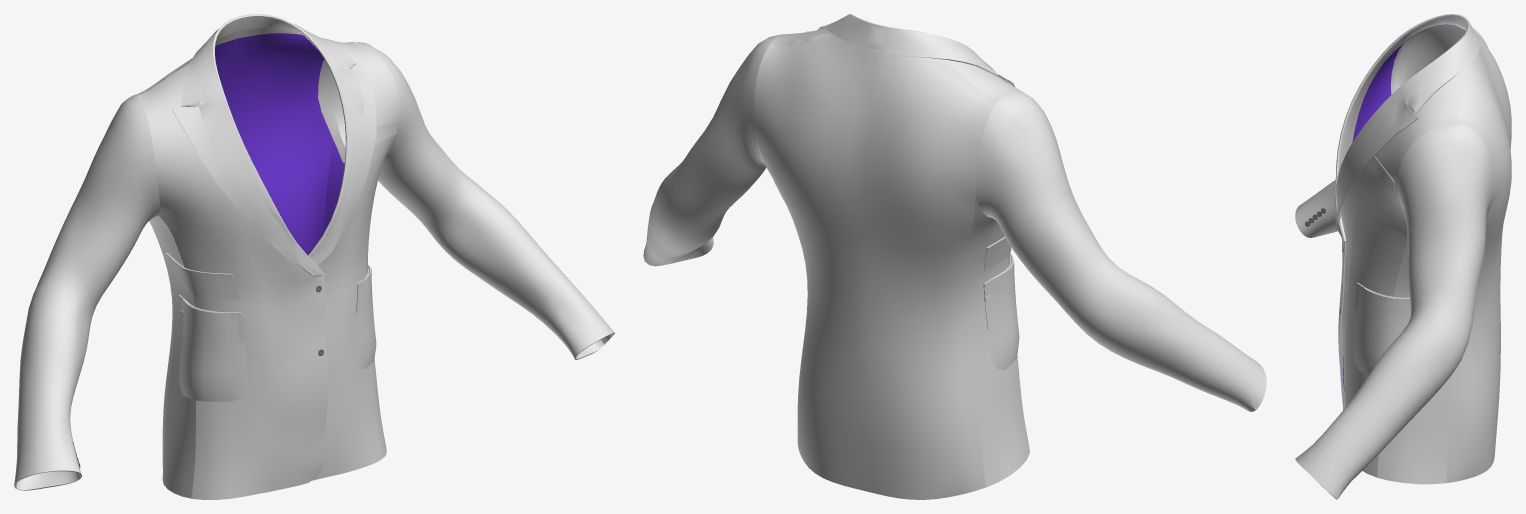
Rendered from Jacket_03_All.fbx.
The picture shows the model from 3 angles, left to right: view 1: azimuth 30°, elevation 25°; view 2: azimuth 150°, elevation 25°; view 3: azimuth 270°, elevation 25°; orthographic projection. The views are drawn at different scales.
Parts seen in each view (by area): view 1: Single-Breasted Notched Lapel 5cm, Functional 3 Buttons, 0V, Single-Breasted Peak Lapel 12cm, Patch Pocket, Fixed, Ticket_Pocket, Single-Breasted Notched Lapel 7cm; view 2: 0V, Functional 3 Buttons, Fixed, Single-Breasted Notched Lapel 5cm, Patch Pocket; view 3: Functional 3 Buttons, Single-Breasted Notched Lapel 5cm, 0V, Fixed, Patch Pocket, Single-Breasted Peak Lapel 12cm.
Part boxes in pixels (box(x1,y1,x2,y2)): Single-Breasted Notched Lapel 5cm: box(137, 14, 400, 499); Functional 3 Buttons: box(14, 42, 614, 490); 0V: box(133, 27, 356, 476); Single-Breasted Peak Lapel 12cm: box(172, 53, 376, 274); Patch Pocket: box(179, 265, 376, 401); Fixed: box(149, 112, 398, 498); Ticket_Pocket: box(166, 252, 239, 299); Single-Breasted Notched Lapel 7cm: box(198, 70, 361, 143); 0V: box(754, 32, 998, 499); Functional 3 Buttons: box(643, 34, 1266, 411); Fixed: box(756, 143, 1029, 487); Single-Breasted Notched Lapel 5cm: box(771, 14, 1029, 446); Patch Pocket: box(984, 252, 1019, 370); Functional 3 Buttons: box(1295, 24, 1494, 499); Single-Breasted Notched Lapel 5cm: box(1335, 14, 1480, 477); 0V: box(1445, 23, 1511, 483); Fixed: box(1367, 156, 1492, 484); Patch Pocket: box(1353, 283, 1410, 375); Single-Breasted Peak Lapel 12cm: box(1334, 90, 1424, 226).
Size of the model in its own units: 101 by 70.96 by 33.02.
